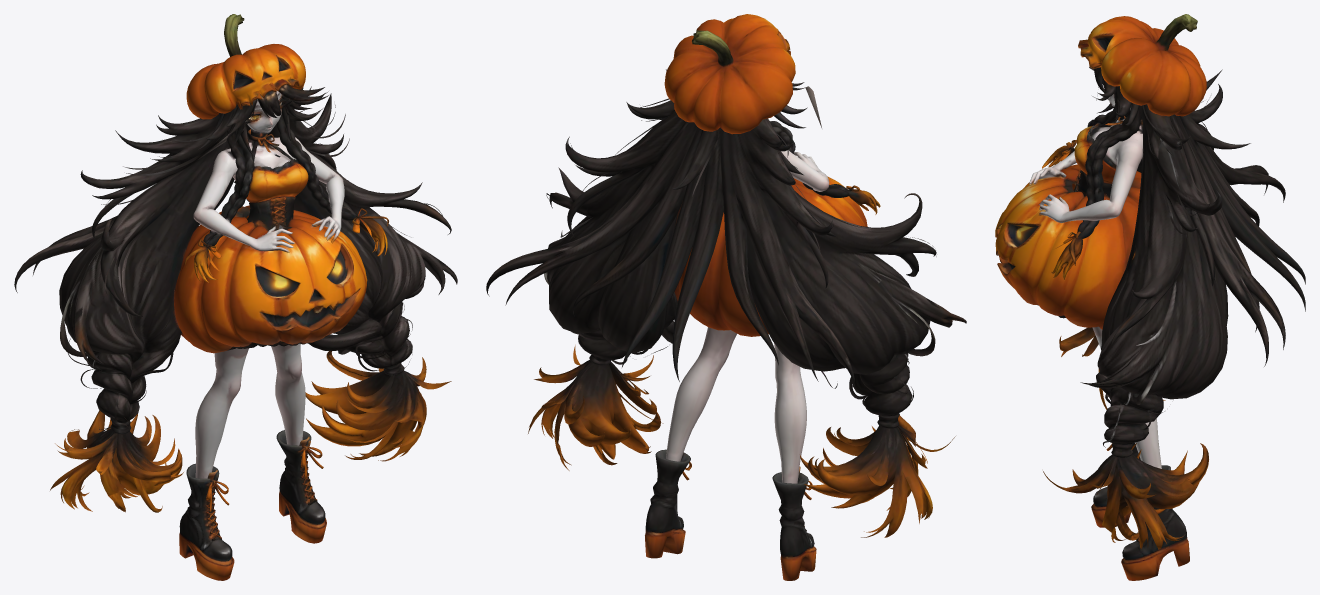
File: pumpkin-girl.glb
The picture shows the model from 3 angles, left to right: view 1: azimuth 30°, elevation 25°; view 2: azimuth 150°, elevation 25°; view 3: azimuth 270°, elevation 25°; orthographic projection. The views are drawn at different scales.
Parts seen in each view (by area): view 1: tripo_node_3519508f-867a-461d-b239-0bd28c62c643; view 2: tripo_node_3519508f-867a-461d-b239-0bd28c62c643; view 3: tripo_node_3519508f-867a-461d-b239-0bd28c62c643.
Boxes of the visible parts, x1=… form: tripo_node_3519508f-867a-461d-b239-0bd28c62c643: x1=14, y1=14, x2=457, y2=580; tripo_node_3519508f-867a-461d-b239-0bd28c62c643: x1=486, y1=14, x2=966, y2=580; tripo_node_3519508f-867a-461d-b239-0bd28c62c643: x1=995, y1=14, x2=1305, y2=580.
Bounding box in the file's own units: 0.7632 × 0.9995 × 0.5259.
Materials: 1 (1 with a texture image).
